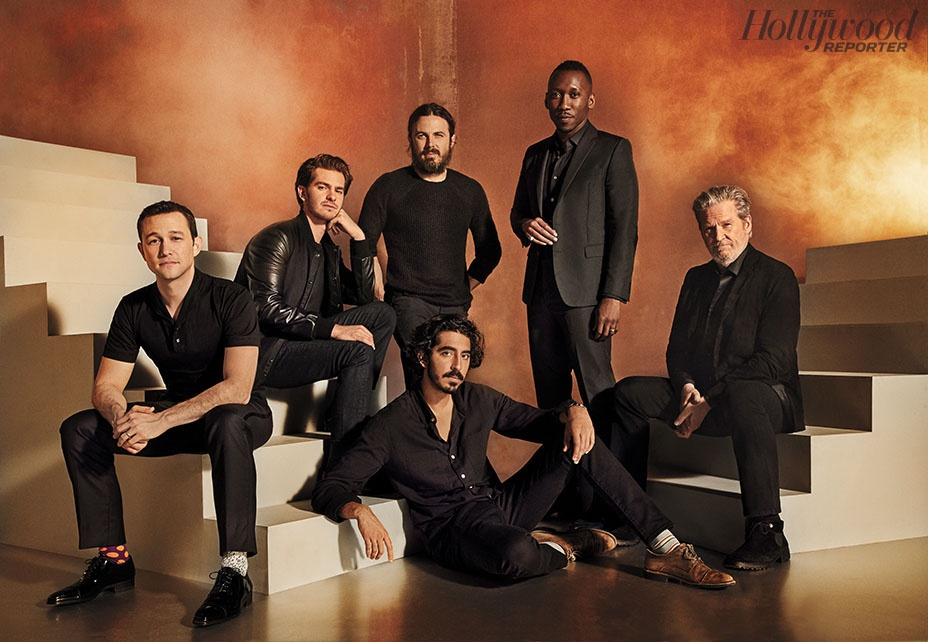bad: (141, 222, 193, 274), (429, 337, 481, 389), (694, 211, 746, 262), (410, 122, 453, 166), (544, 84, 588, 127), (309, 178, 345, 214)
